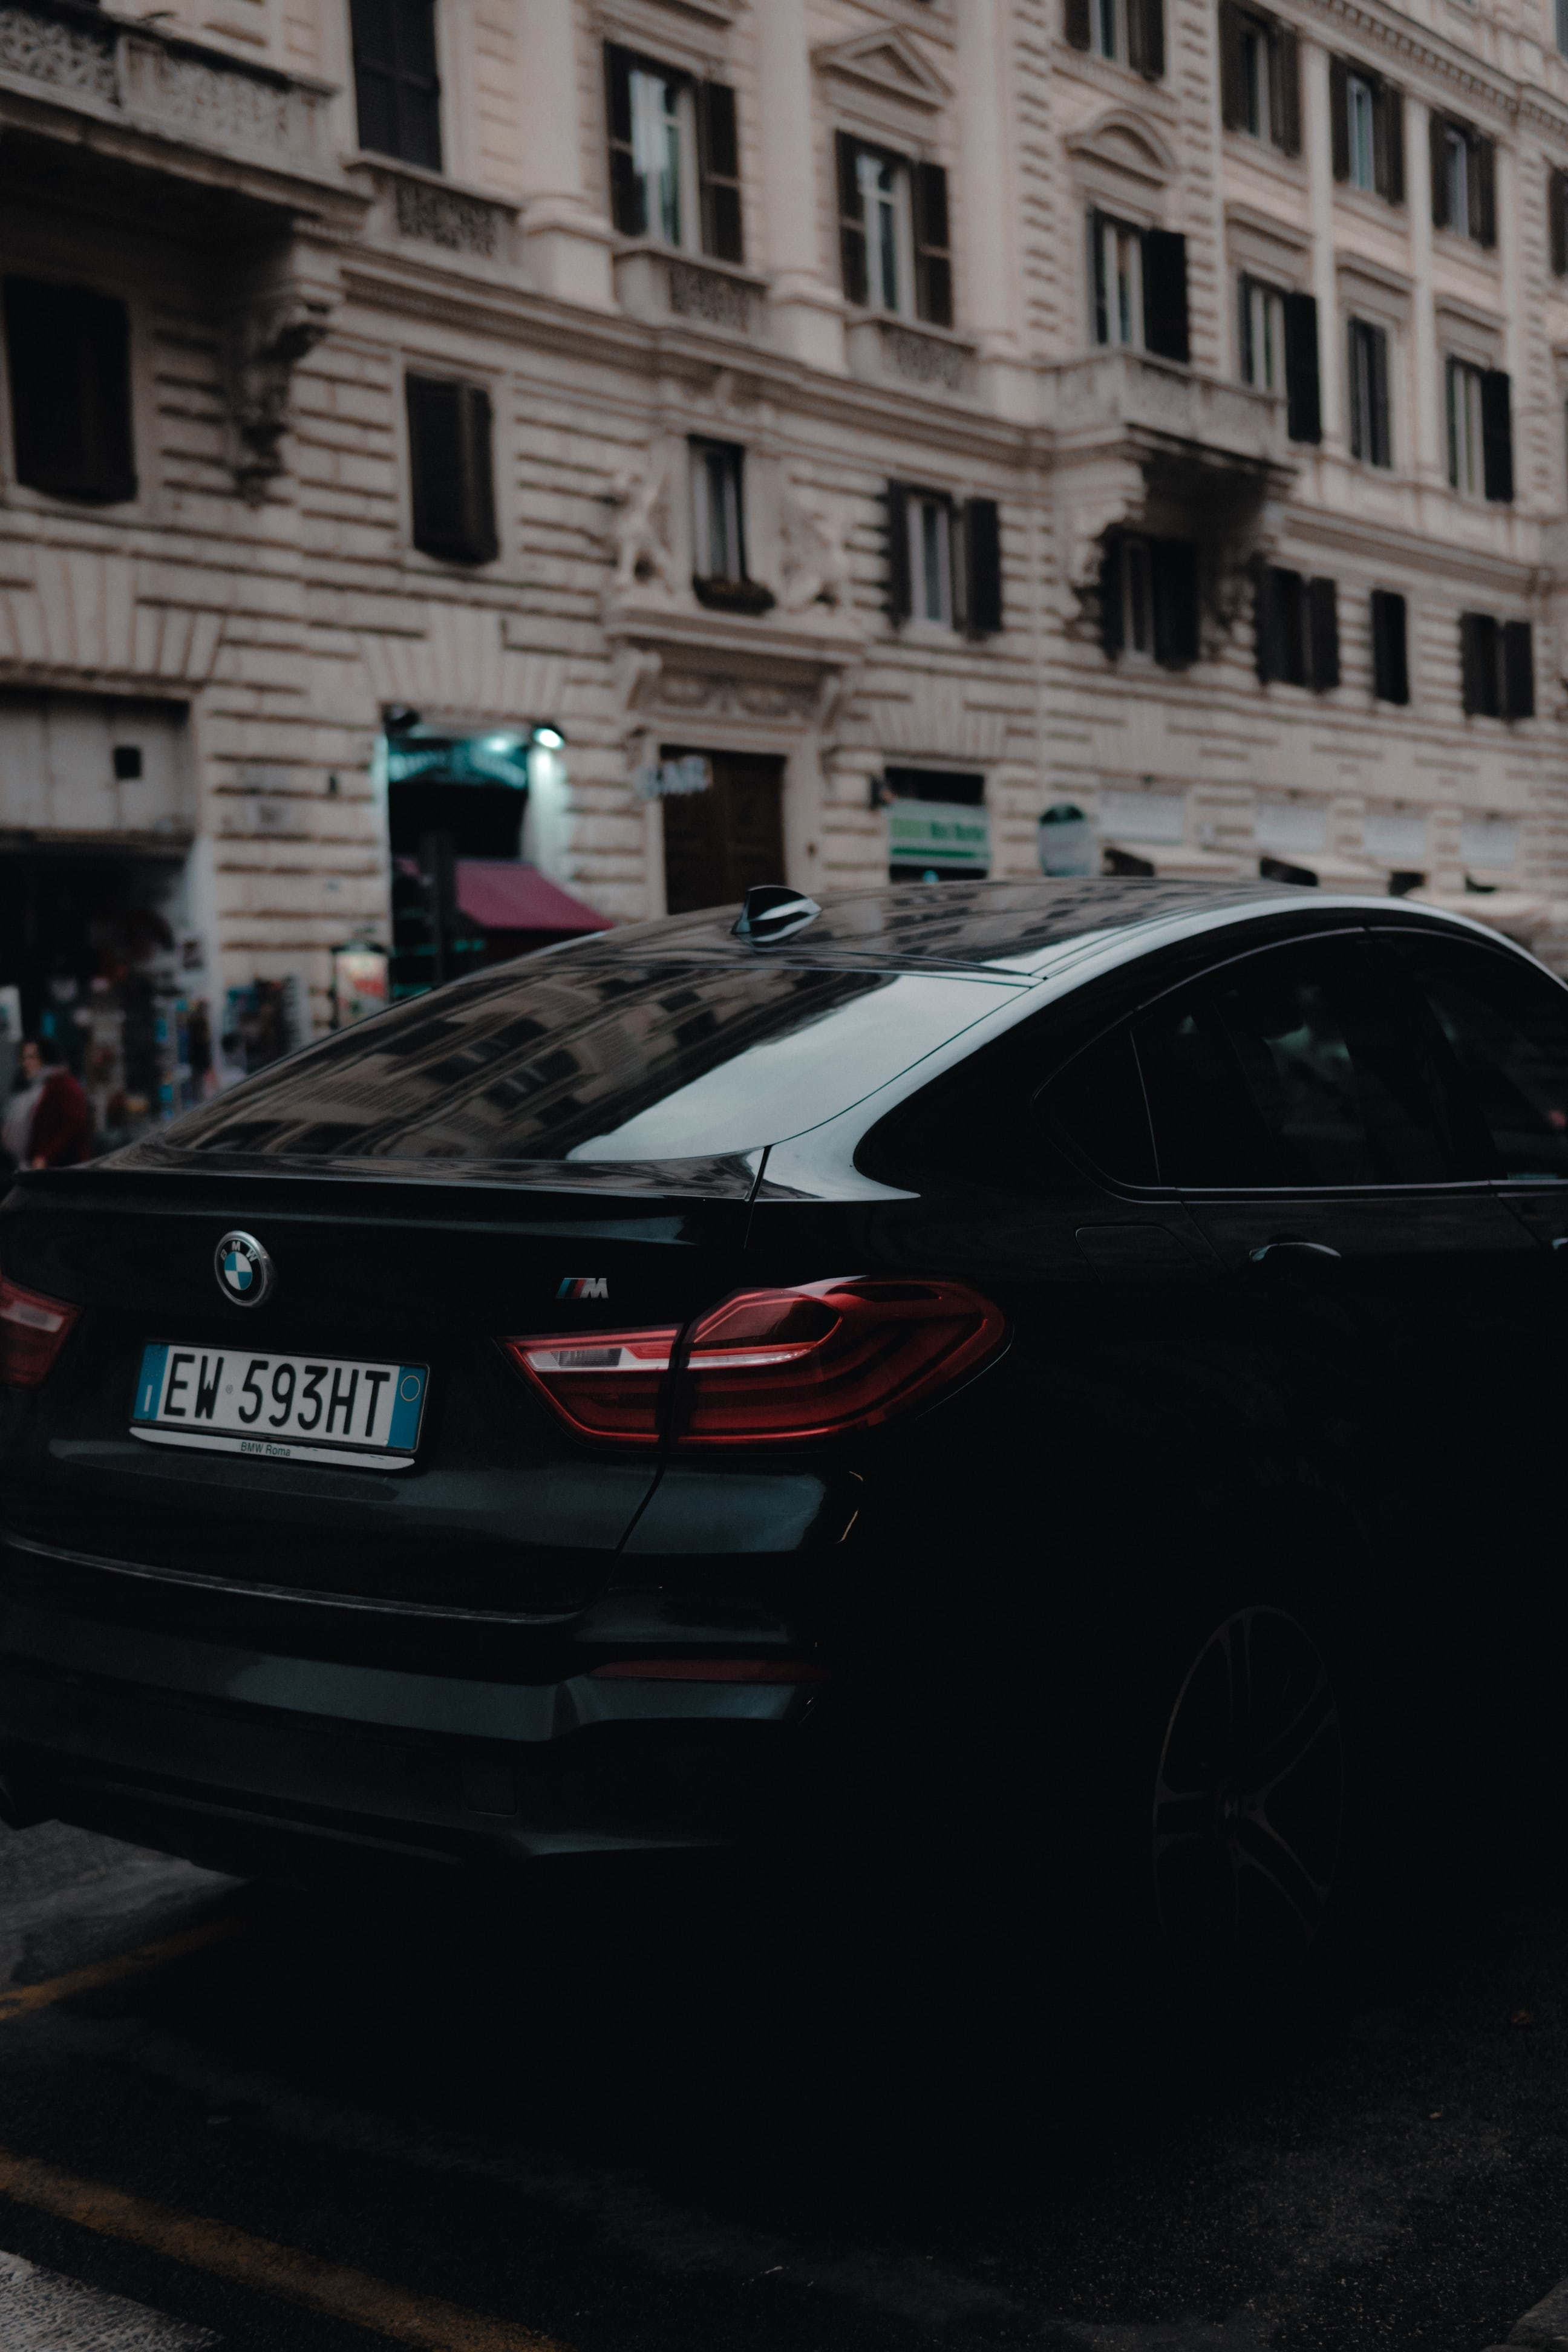plaka: (122, 1333, 433, 1457)
